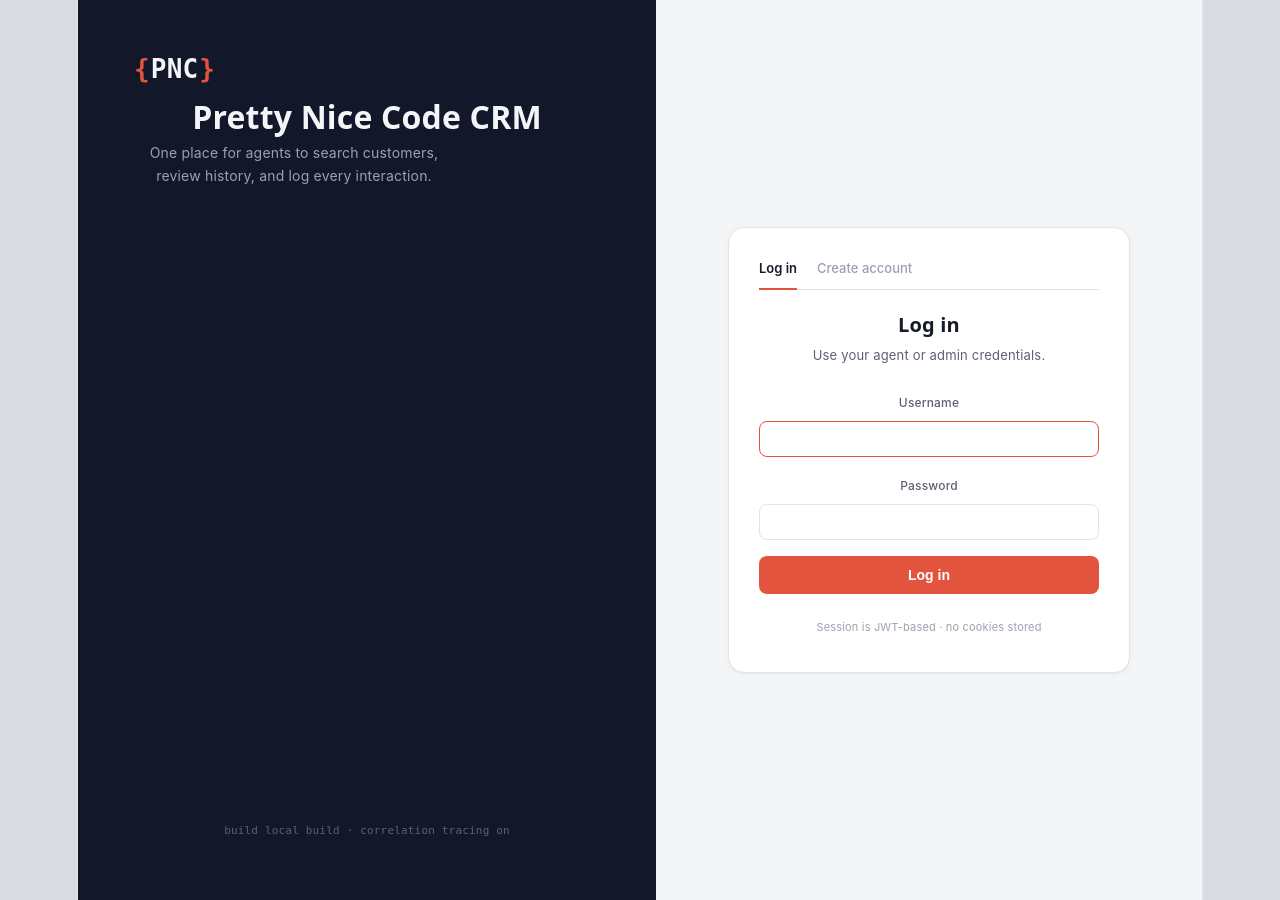
Test: Login › switches to the Create account tab and back
This screenshot has width=1280, height=900.
Click the button "Create account".
click(865, 275)  # box [817,260,912,290]
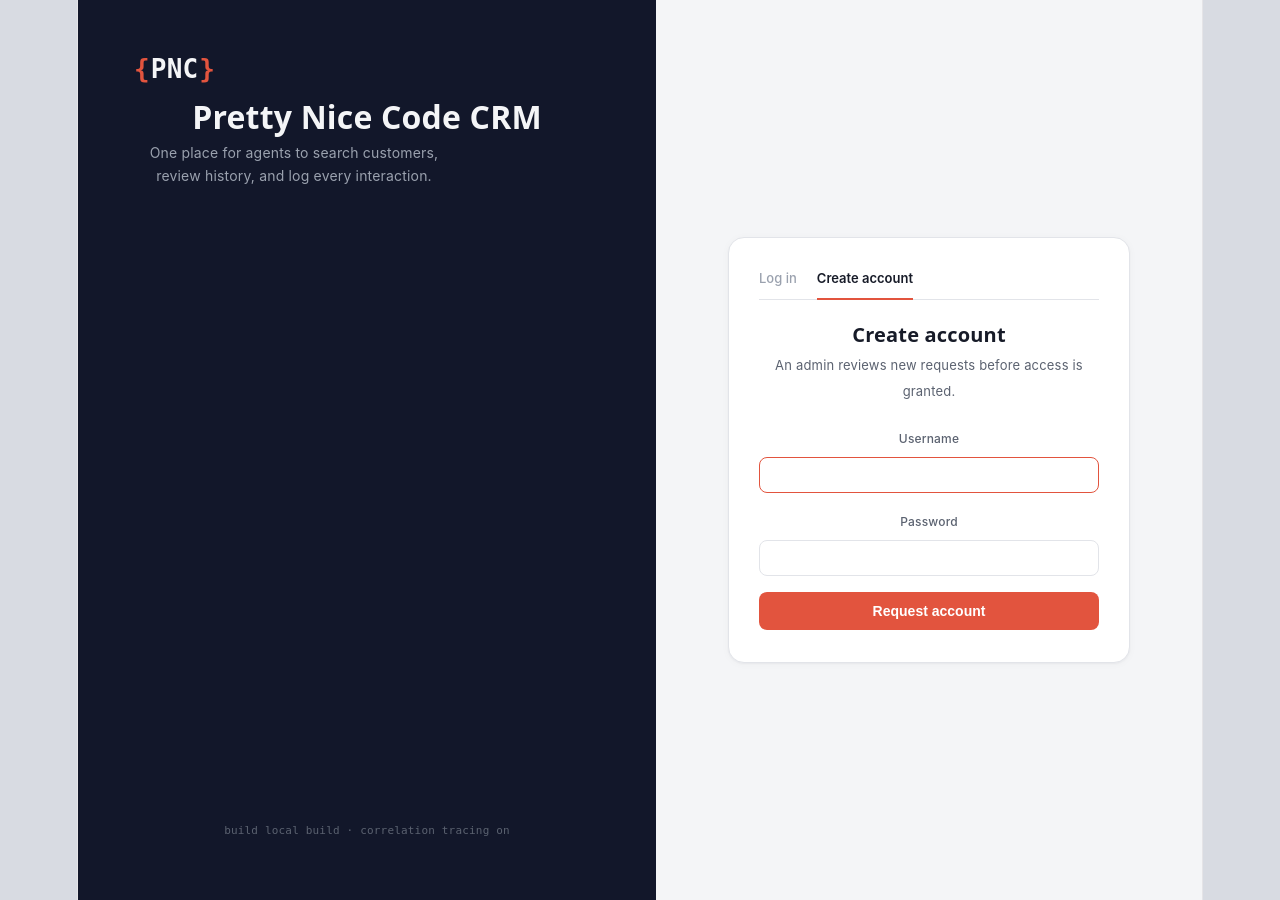
Now the button with class "login-screen-submit" reads "Request account", box [759,592,1099,630]
Click the button with class "login-screen-tab" showing "Log in".
click(778, 285)  # box [759,270,797,300]
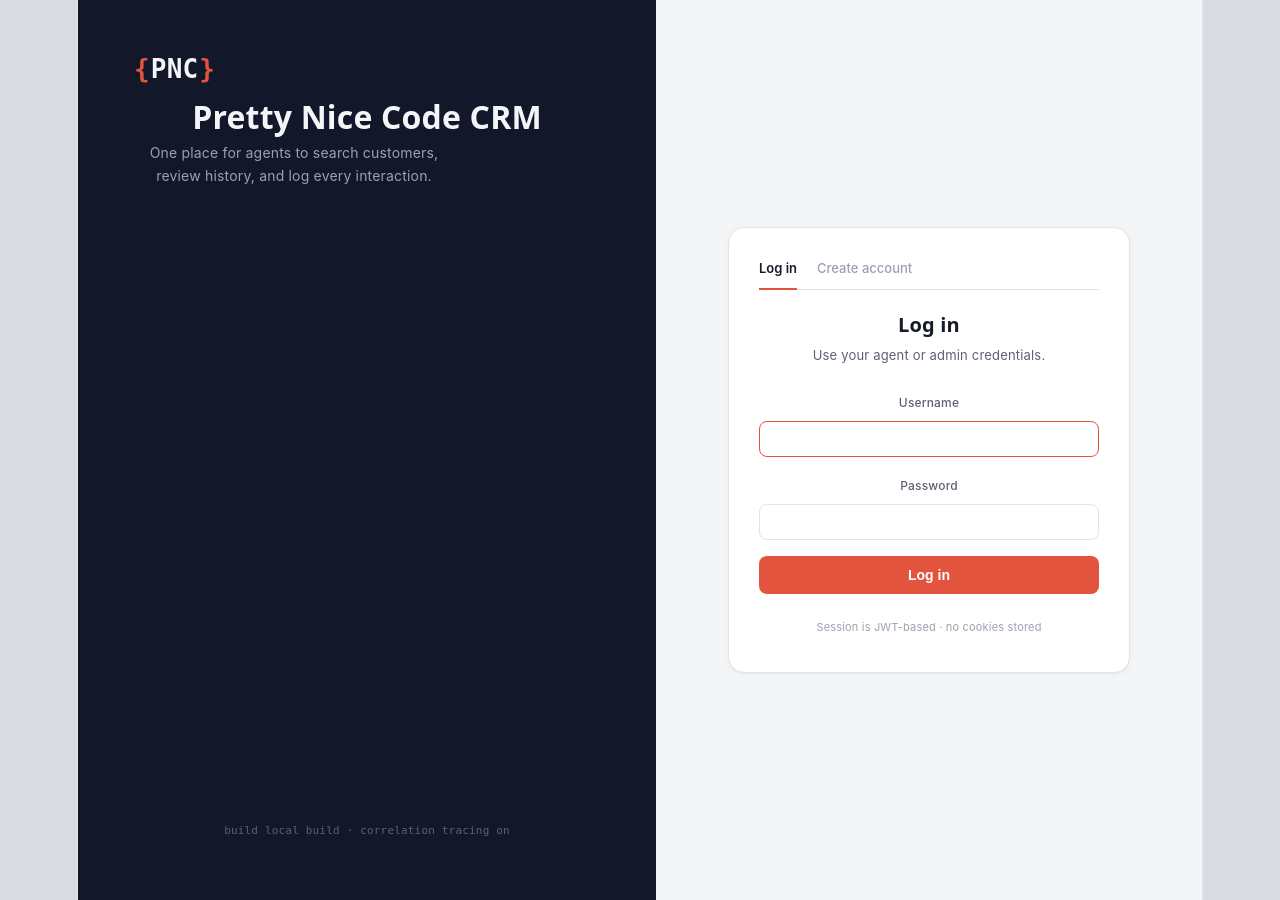
Now the button with class "login-screen-submit" reads "Log in", box [759,556,1099,594]
